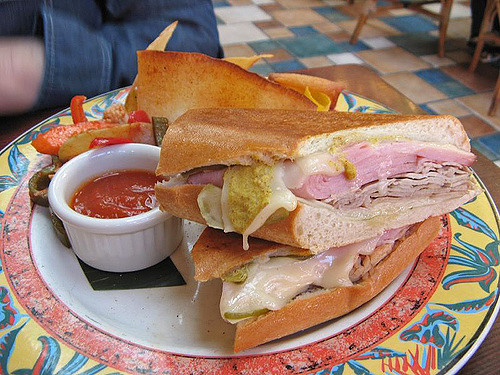slice of bread: (199, 109, 459, 204)
